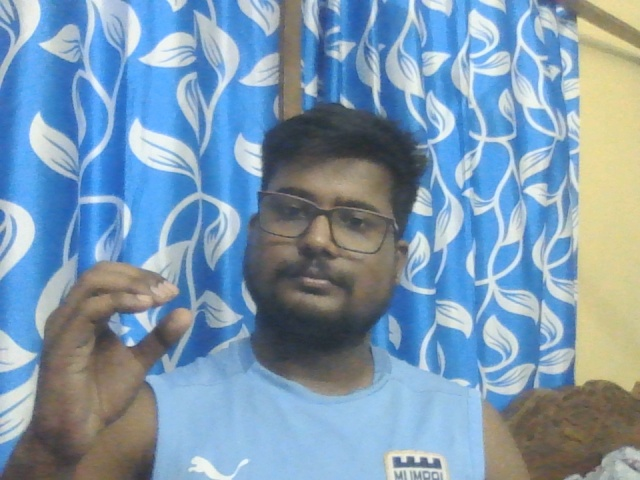C: (38, 258, 193, 448)
